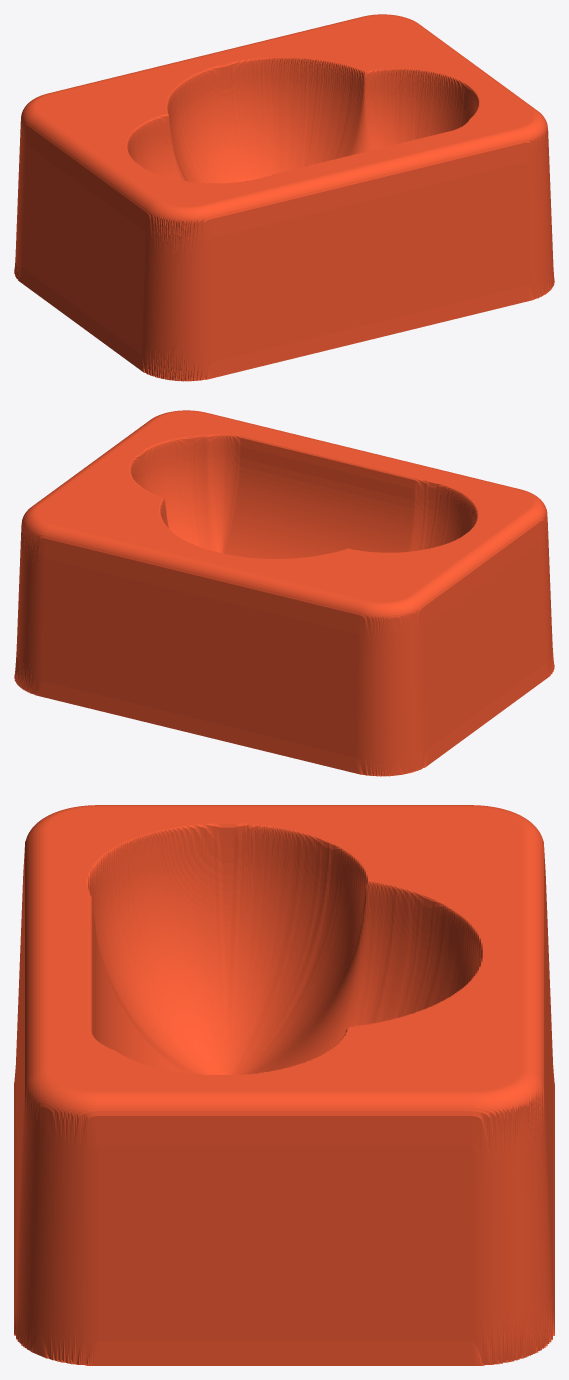
The model's file is mold.glb.
3 views of the same model, one above another, from view 1: azimuth 30°, elevation 25°; view 2: azimuth 150°, elevation 25°; view 3: azimuth 270°, elevation 25° (orthographic). The views are drawn at different scales.
Visible parts, largest first — view 1: geometry_0; view 2: geometry_0; view 3: geometry_0.
Part boxes in pixels (x1,y1,x2,y2): geometry_0: [14, 14, 554, 381]; geometry_0: [14, 410, 554, 776]; geometry_0: [14, 805, 554, 1365].
Size of the model in its own units: 0.0798 by 0.031 by 0.0584.
